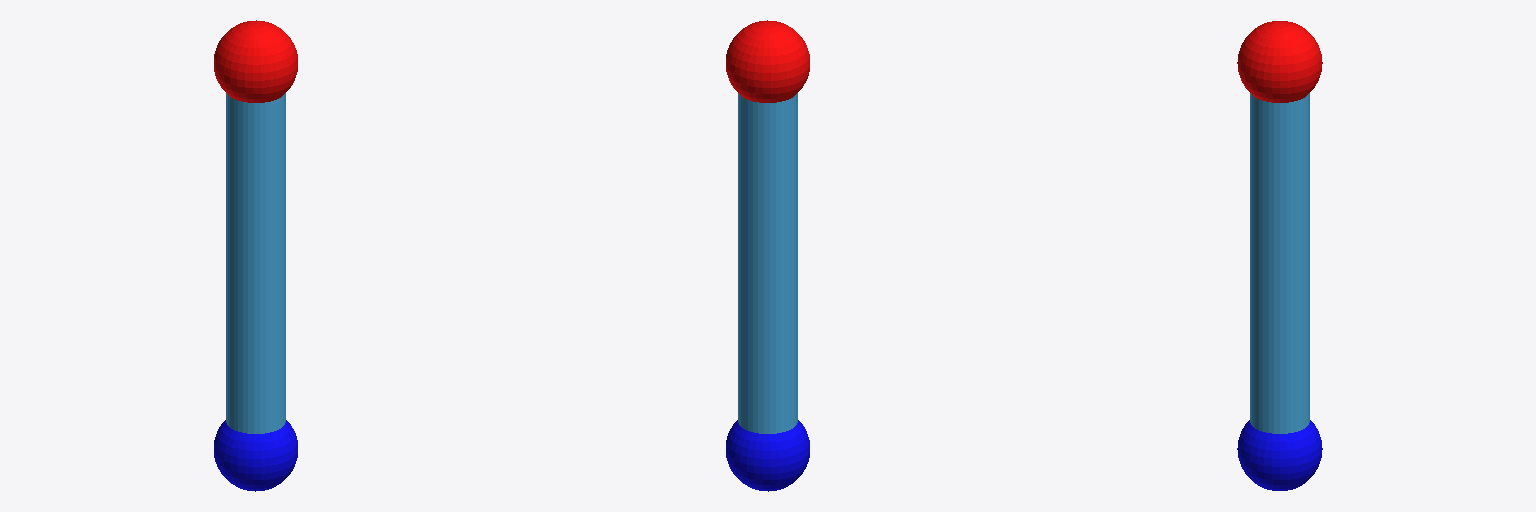
robot.urdf — simple_pendulum:
<?xml version="1.0" ?>

<robot name="simple_pendulum">
    <link name="base_link">
        <inertial>
            <origin xyz="0.0 0.0 0.0" rpy="0 0 0" />
            <mass value="1" />
            <inertia ixx="0.1" iyy="0.1" izz="0.1" ixy="0" ixz="0" iyz="0" />
        </inertial>
        <visual>
            <origin xyz="0.0 0.0 0.0" rpy="0 0 0" />
            <geometry>
                <sphere radius="0.1" />
            </geometry>
            <material name="material_red">
                <color rgba="1.0 0.1 0.1 1.0" />
            </material>
        </visual>
        <collision>
            <origin xyz="0.0 0.0 0.0" rpy="0 0 0" />
            <geometry>
                <sphere radius="0.1" />
            </geometry>
        </collision>
    </link>
    <link name="link0">
        <inertial>
            <origin xyz="0.0 0.0 -0.5" rpy="0 0 0" />
            <mass value="0.5" />
            <inertia ixx="0.1" iyy="0.1" izz="0.1" ixy="0" ixz="0" iyz="0" />
        </inertial>
        <visual>
            <origin xyz="0.0 0.0 -0.5" rpy="0 0 0" />
            <geometry>
                <cylinder radius="0.07" length="1.0" />
            </geometry>
        </visual>
        <collision>
            <origin xyz="0.0 0.0 -0.4475" rpy="0 0 0" />
            <geometry>
                <cylinder radius="0.07" length="0.79" />
            </geometry>
        </collision>
    </link>
    <link name="eef">
        <inertial>
            <origin xyz="0.0 0.0 0.0" rpy="0 0 0" />
            <mass value="1" />
            <inertia ixx="0.1" iyy="0.1" izz="0.1" ixy="0" ixz="0" iyz="0" />
        </inertial>
        <visual>
            <origin xyz="0.0 0.0 0.0" rpy="0 0 0" />
            <geometry>
                <sphere radius="0.1" />
            </geometry>
            <material name="material_red">
                <color rgba="0.1 0.1 1.0 1.0" />
            </material>
        </visual>
        <collision>
            <origin xyz="0.0 0.0 0.0" rpy="0 0 0" />
            <geometry>
                <sphere radius="0.1" />
            </geometry>
        </collision>
    </link>
    
    <joint name="j0" type="revolute">
        <parent link="base_link" />
        <child link="link0" />
        <origin xyz="0.000000 0.000000 0.000000" rpy="-0.000000 0.000000 -0.000000" />
        <axis xyz="1 0 0" />
        <calibration rising="1.3" />
        <limit lower="-2.967" upper="2.967" effort="176" velocity="1.7104" />
    </joint>
	<joint name='jfixed' type='fixed'>
		<parent link='link0'/>
		<child link='eef'/>
		<origin xyz='0.0 0.0 -1.0' rpy='0 0 0'/>
	</joint>
    
</robot>

--- Facts derived from the render (not from the file) ---
3 views of the same robot in one strip: view 1: azimuth 30°, elevation 25°; view 2: azimuth 150°, elevation 25°; view 3: azimuth 270°, elevation 25° (orthographic).
Model simple_pendulum with 3 links and 2 joints (1 revolute, 1 fixed), rooted at base_link, posed all joints at 0.
Visible links, largest first — view 1: link0, base_link, eef; view 2: link0, base_link, eef; view 3: link0, base_link, eef.
Link boxes in pixels (x1,y1,x2,y2): link0: (226, 93, 285, 433); base_link: (214, 20, 297, 102); eef: (214, 420, 297, 491); link0: (738, 93, 797, 433); base_link: (726, 20, 809, 102); eef: (726, 420, 809, 491); link0: (1250, 93, 1309, 433); base_link: (1237, 21, 1322, 102); eef: (1237, 420, 1322, 490).
Bounding box of the posed robot: 0.2 × 0.2 × 1.2 m (x, y, z).
Geometry: primitives only (box / cylinder / sphere), no mesh files.